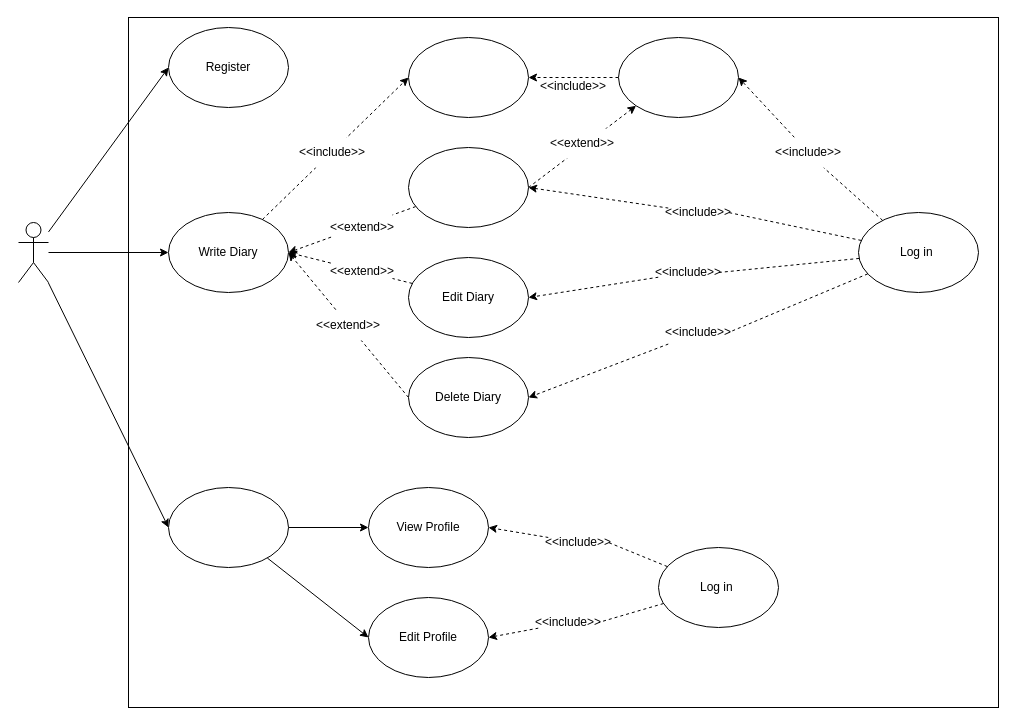
Image size: 1016x725. Some labels were removed from this diagram. The shapes that lost their labels are listed below. From the top down, each one's centre as x and y in pixels, then its label:
At pixel 468 77: "Sentiment Analysis".
At pixel 678 77: "View Analysis".
At pixel 468 187: "View Diary".
At pixel 33 252: "USER".
At pixel 228 527: "Profile".
